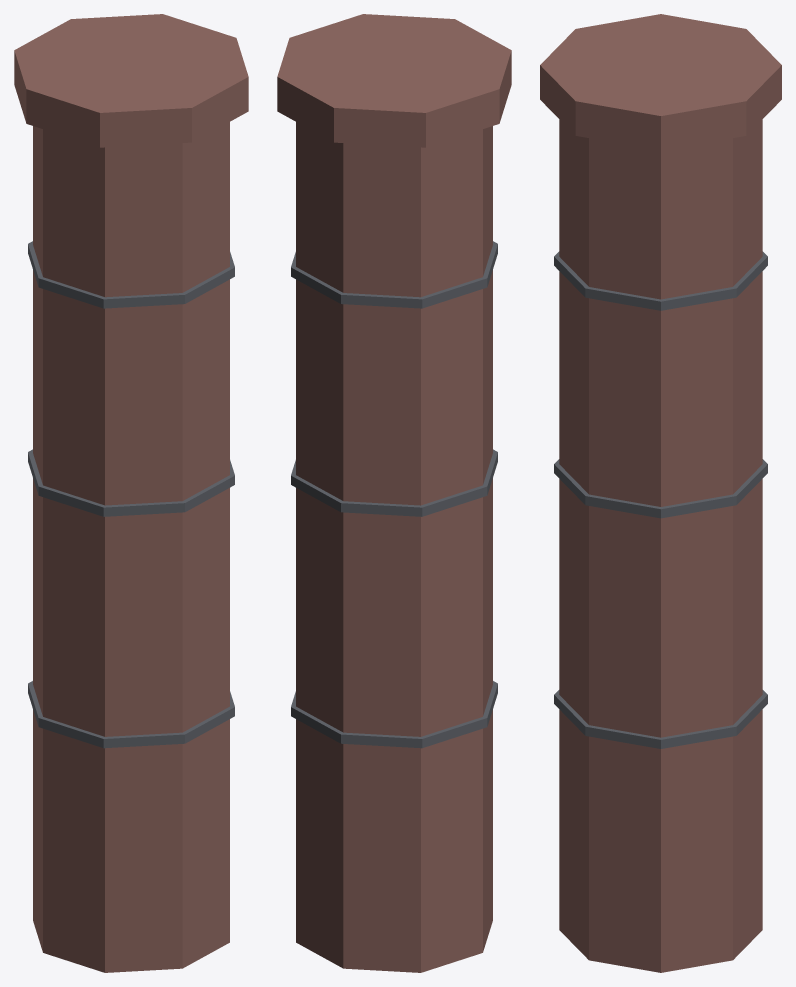
The model's file is arkham_chimney_industrial.glb.
3 renders of one model, left to right at view 1: azimuth 30°, elevation 25°; view 2: azimuth 150°, elevation 25°; view 3: azimuth 270°, elevation 25°, orthographic.
Visible parts, largest first — view 1: Arkham_Chimney_Industrial; view 2: Arkham_Chimney_Industrial; view 3: Arkham_Chimney_Industrial.
Boxes of the visible parts, box(x1,y1,x2,y2) form: Arkham_Chimney_Industrial: box(14, 14, 248, 972); Arkham_Chimney_Industrial: box(277, 14, 511, 972); Arkham_Chimney_Industrial: box(540, 14, 781, 972).
Bounding box in the file's own units: 1.9 × 7.5 × 1.9.
